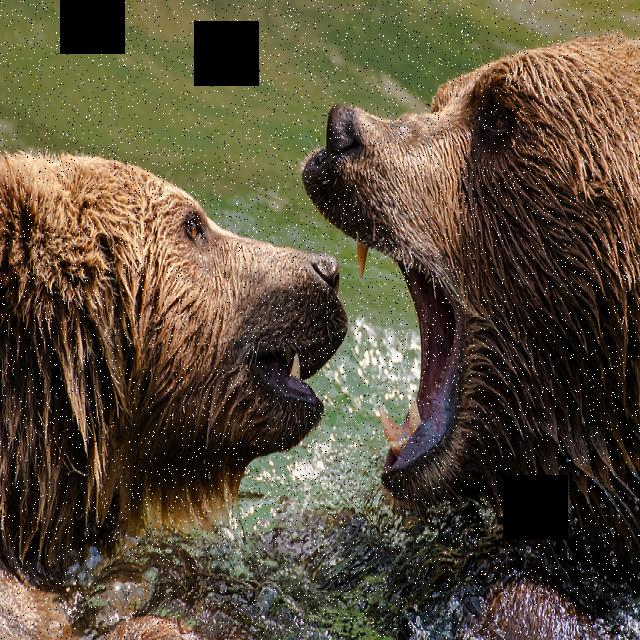Bear: (300, 43, 639, 640), (0, 150, 352, 614)
